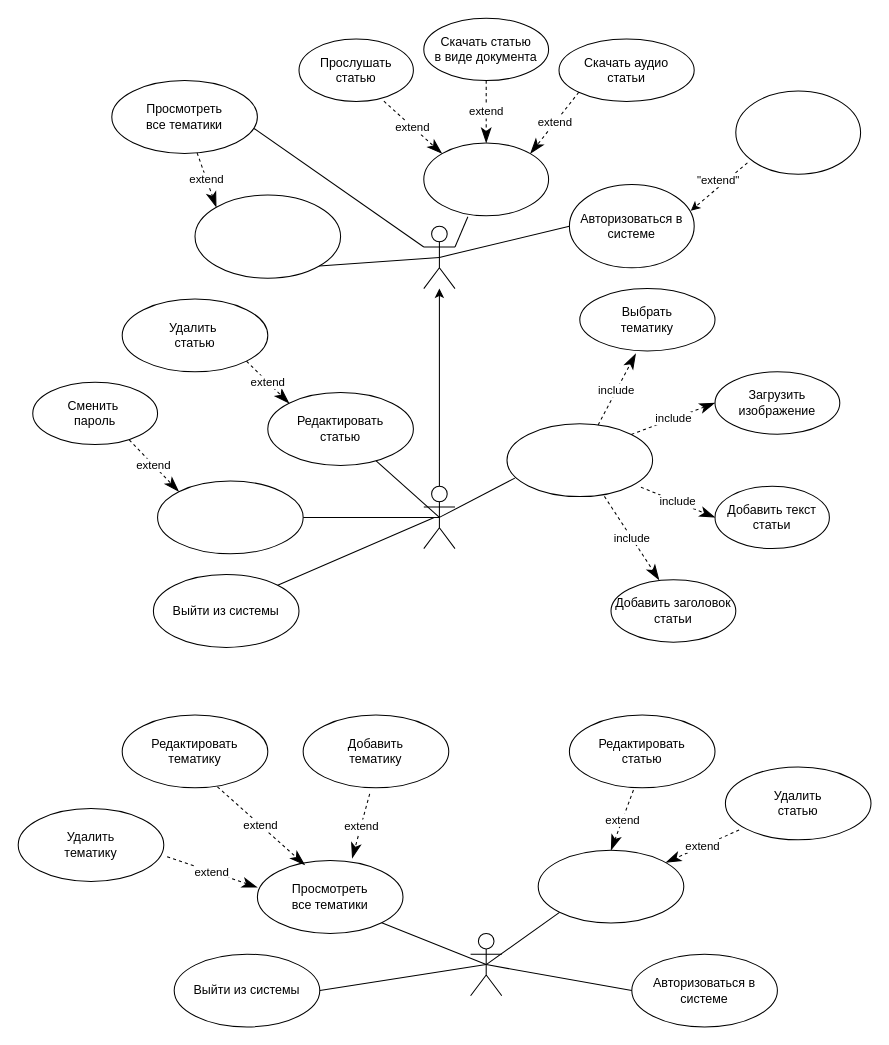
This 889x1045 diagram has some shape labels left out. Each missing label, with the centre of its shape:
Авторизованный пользователь: point (439, 517)
Администратор: point (486, 964)
Добавить статью: point (579, 460)
Зарегистрироваться в системе: point (798, 132)
Неавторизованный пользователь: point (439, 257)
Просмотреть все статьи: point (610, 886)
Просмотреть статьи выбранной тематики: point (267, 236)
Просмотреть статью: point (486, 179)
Редактировать профиль: point (230, 517)
